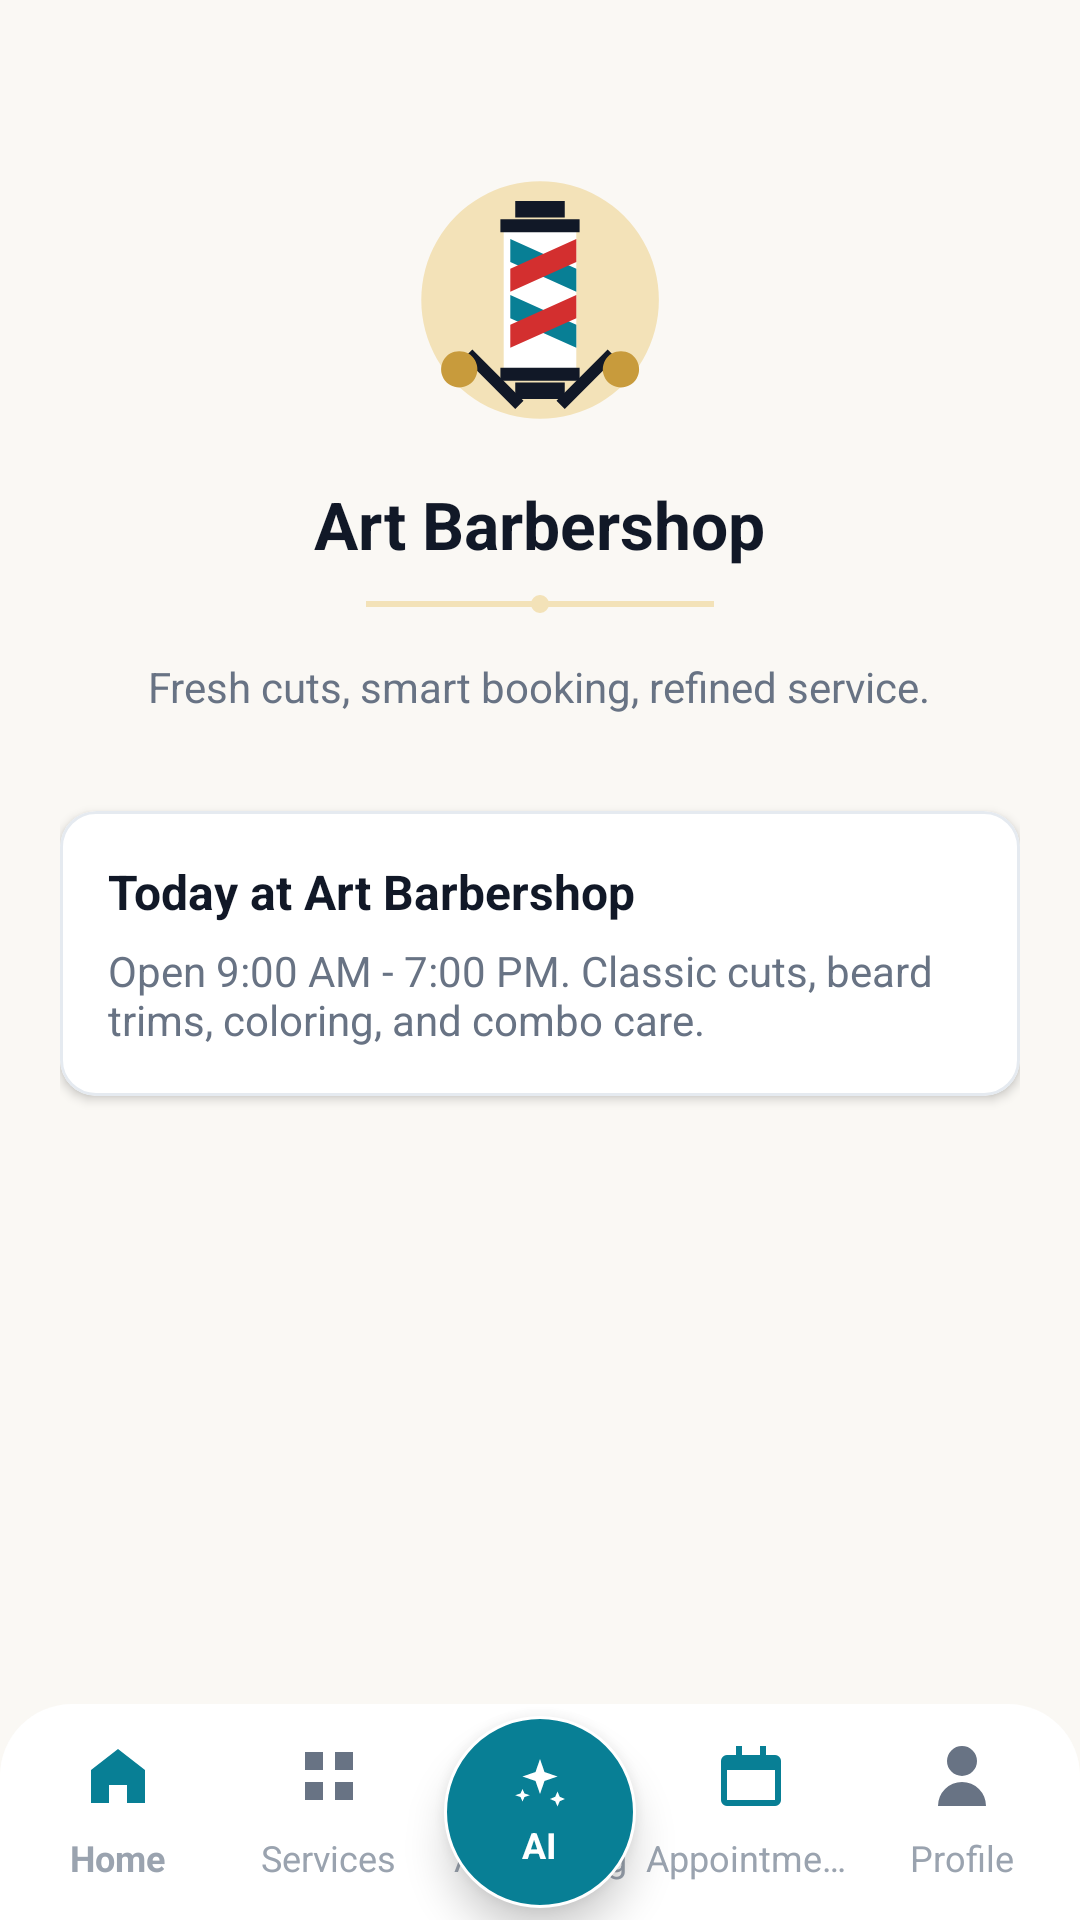

Named icons in this screenshot (1080x1920) and their centers, point (x, y):
barber pole: point (540, 300)
